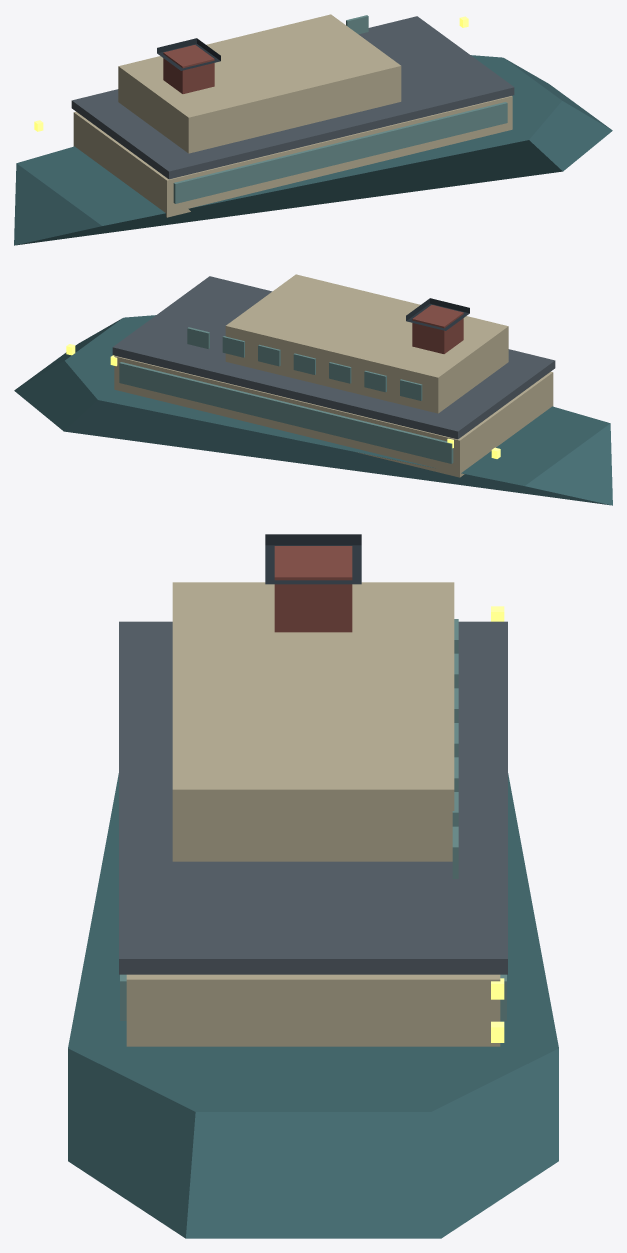
File: bristol_midtown_ferry.glb
The picture shows the model from 3 angles, top to bottom: view 1: azimuth 30°, elevation 25°; view 2: azimuth 150°, elevation 25°; view 3: azimuth 270°, elevation 25°; orthographic projection. The views are drawn at different scales.
Visible parts, largest first — view 1: Ferry_double_ended_hull.003, Ferry_upper_cabin.003, Ferry_upper_deck.003, Ferry_lower_saloon.003, Ferry_glazing_band.003, Ferry_stack.003, Ferry_stack_cap.003, Ferry_window.027; view 2: Ferry_double_ended_hull.003, Ferry_upper_cabin.003, Ferry_upper_deck.003, Ferry_lower_saloon.003, Ferry_glazing_band.003, Ferry_stack.003, Ferry_stack_cap.003, Ferry_window.027, Ferry_window.022, Ferry_window.023, Ferry_window.021, Ferry_window.024 (+2 smaller); view 3: Ferry_double_ended_hull.003, Ferry_upper_cabin.003, Ferry_upper_deck.003, Ferry_lower_saloon.003, Ferry_stack.003, Ferry_stack_cap.003.
Boxes of the visible parts, box(x1,y1,x2,y2) form: Ferry_double_ended_hull.003: box(14, 55, 612, 245); Ferry_upper_cabin.003: box(118, 14, 401, 153); Ferry_upper_deck.003: box(71, 16, 514, 179); Ferry_lower_saloon.003: box(73, 96, 512, 217); Ferry_glazing_band.003: box(173, 102, 507, 203); Ferry_stack.003: box(163, 45, 214, 93); Ferry_stack_cap.003: box(157, 38, 220, 70); Ferry_window.027: box(346, 15, 368, 34); Ferry_double_ended_hull.003: box(14, 315, 612, 505); Ferry_upper_cabin.003: box(225, 274, 508, 413); Ferry_upper_deck.003: box(112, 276, 555, 439); Ferry_lower_saloon.003: box(114, 356, 553, 477); Ferry_glazing_band.003: box(119, 362, 453, 463); Ferry_stack.003: box(412, 305, 463, 353); Ferry_stack_cap.003: box(406, 298, 469, 330); Ferry_window.027: box(187, 327, 209, 348); Ferry_window.022: box(364, 370, 386, 392); Ferry_window.023: box(329, 362, 351, 383); Ferry_window.021: box(400, 379, 422, 400); Ferry_window.024: box(293, 353, 315, 374); Ferry_double_ended_hull.003: box(68, 773, 558, 1238); Ferry_upper_cabin.003: box(172, 582, 454, 861); Ferry_upper_deck.003: box(119, 621, 507, 974); Ferry_lower_saloon.003: box(126, 974, 500, 1046); Ferry_stack.003: box(274, 546, 352, 632); Ferry_stack_cap.003: box(265, 534, 361, 584).
Bounding box in the file's own units: 12.8 × 3.26 × 4.8.
